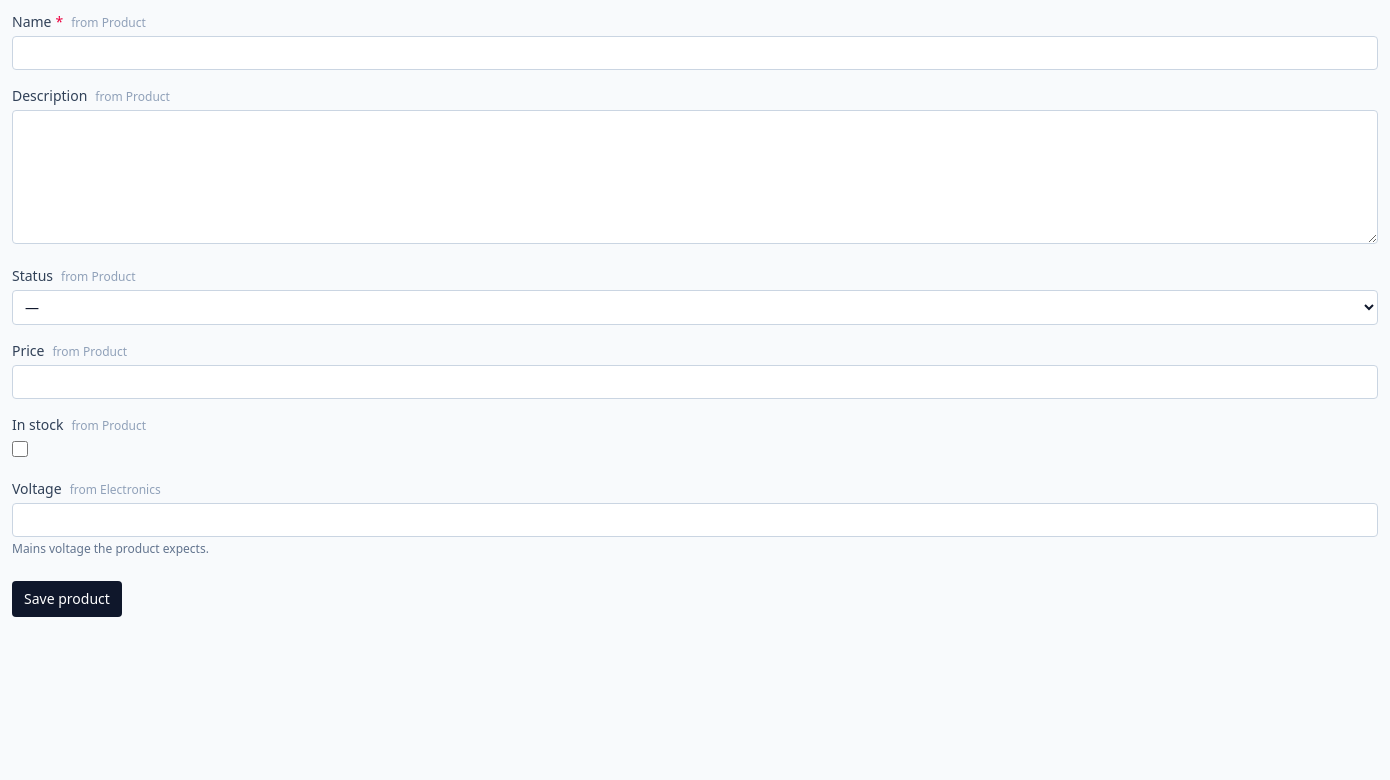
Scenario: the product form the schema draws › sends nothing at all when every field is empty
Click the button "Save product".
click(67, 599)  # box [12,581,122,617]
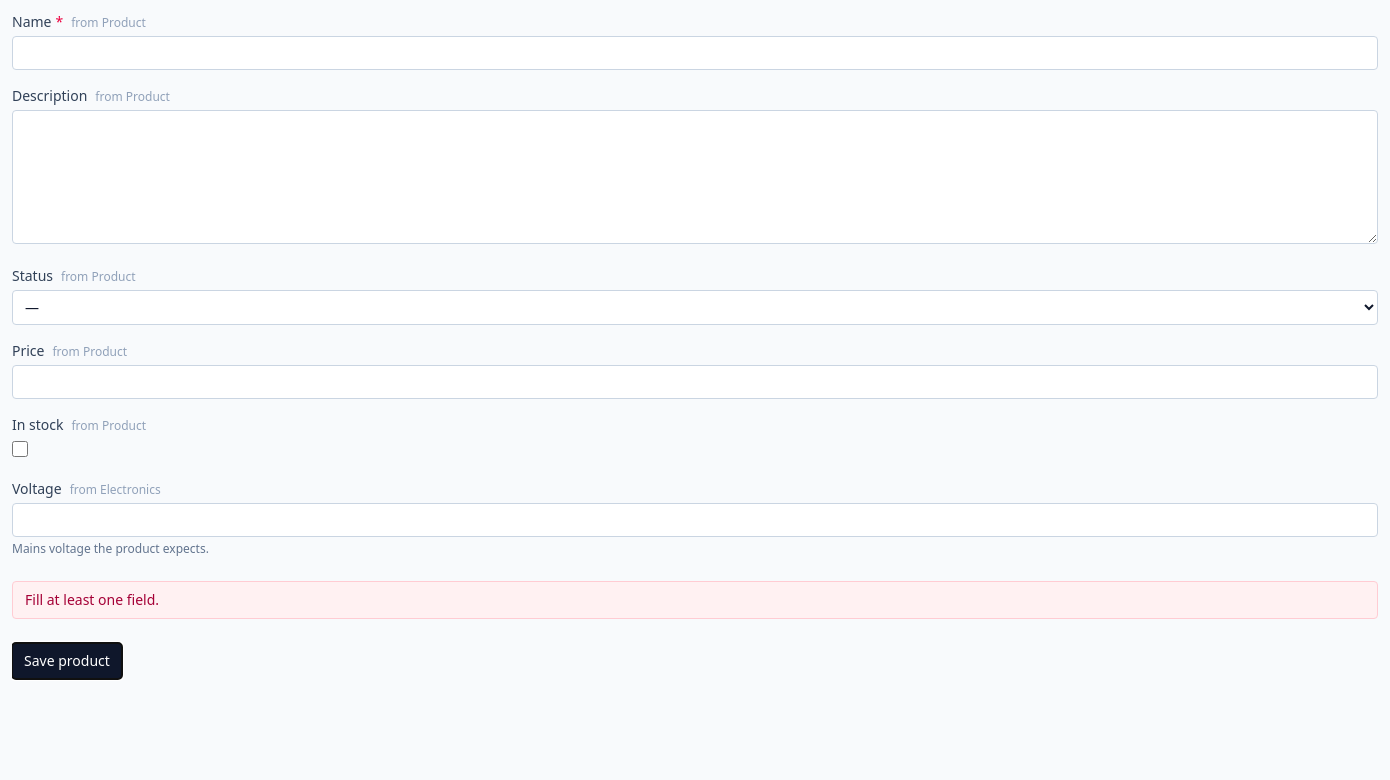
Expected: the text "Fill at least one field." is shown, [12,581,1378,619]
